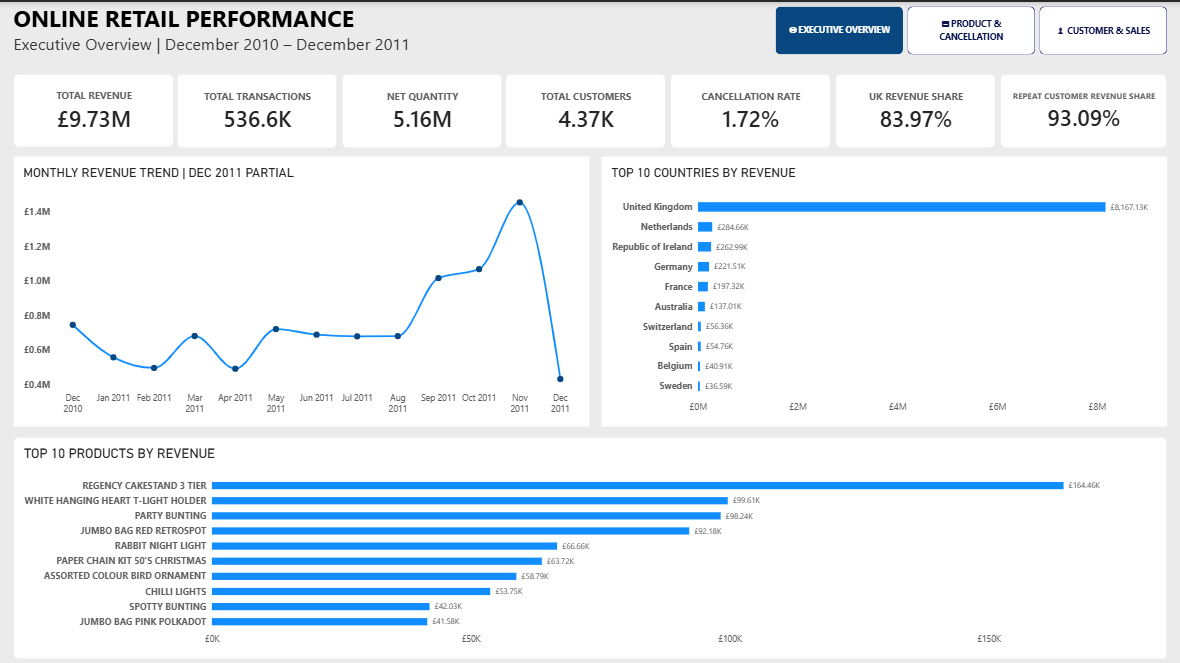

Layout of this report page (visuals, bound fields, positions):
{"tool":"powerbi","page":{"name":"EXECUTIVE OVERVIEW","canvas":[1920,1080],"ordinal":0},"visuals":[{"type":"cardVisual","fields":{"Data":["Online_retail_cleaned_v2.TOTAL REVENUE"]},"box":[22,117.1,260,119.6],"z":0},{"type":"cardVisual","fields":{"Data":["Online_retail_cleaned_v2.CANCELLATION RATE"]},"box":[1090.6,117.1,260,120],"z":1000},{"type":"cardVisual","fields":{"Data":["Online_retail_cleaned_v2.TOTAL TRANSACTIONS"]},"box":[289.1,117.1,260,120],"z":2000},{"type":"cardVisual","fields":{"Data":["Online_retail_cleaned_v2.TOTAL CUSTOMERS"]},"box":[823.4,117.1,260,120],"z":3000},{"type":"cardVisual","fields":{"Data":["Online_retail_cleaned_v2.NET QUANTITY"]},"box":[556.3,117.1,260,120],"z":4000},{"type":"textbox","box":[22,0,1134.5,100],"z":5000},{"type":"lineChart","title":"MONTHLY REVENUE TREND | DEC 2011 PARTIAL","fields":{"Category":["Online_retail_cleaned_v2.Month Year"],"Y":["Online_retail_cleaned_v2.TOTAL REVENUE"]},"box":[22,251.3,936.9,439.2],"z":6000},{"type":"clusteredBarChart","title":"TOP 10 COUNTRIES BY REVENUE","fields":{"Category":["Online_retail_cleaned_v2.Country Display"],"Y":["Online_retail_cleaned_v2.TOTAL REVENUE"]},"box":[978.4,251.3,919.8,439.2],"z":7000},{"type":"clusteredBarChart","title":"TOP 10 PRODUCTS BY REVENUE","fields":{"Category":["Online_retail_cleaned_v2.description"],"Y":["Online_retail_cleaned_v2.TOTAL REVENUE"]},"box":[22,707.5,1876.2,361.1],"z":8000},{"type":"cardVisual","fields":{"Data":["Online_retail_cleaned_v2.UK REVENUE SHARE"]},"box":[1357.8,117.1,260,120],"z":9000},{"type":"cardVisual","fields":{"Data":["Online_retail_cleaned_v2.REPEAT CUSTOMER REVENUE SHARE"]},"box":[1627.4,117.1,270,120],"z":10000},{"type":"actionButton","box":[1262.2,7.3,207.4,78.1],"z":10001},{"type":"actionButton","box":[1690.7,8,207.4,78.1],"z":10002},{"type":"actionButton","box":[1476.9,7.3,207.4,78.1],"z":10003}]}

Visuals, with their boxes in screenshot pixels (x1, y1, x2, y2), scaled from the page's 1920x1080 canvas onto the 1180x663 screenshot:
cardVisual - Online_retail_cleaned_v2.TOTAL REVENUE: box(14, 72, 173, 145)
cardVisual - Online_retail_cleaned_v2.CANCELLATION RATE: box(670, 72, 830, 146)
cardVisual - Online_retail_cleaned_v2.TOTAL TRANSACTIONS: box(178, 72, 337, 146)
cardVisual - Online_retail_cleaned_v2.TOTAL CUSTOMERS: box(506, 72, 666, 146)
cardVisual - Online_retail_cleaned_v2.NET QUANTITY: box(342, 72, 502, 146)
textbox: box(14, 0, 711, 61)
"MONTHLY REVENUE TREND | DEC 2011 PARTIAL" lineChart: box(14, 154, 589, 424)
"TOP 10 COUNTRIES BY REVENUE" clusteredBarChart: box(601, 154, 1167, 424)
"TOP 10 PRODUCTS BY REVENUE" clusteredBarChart: box(14, 434, 1167, 656)
cardVisual - Online_retail_cleaned_v2.UK REVENUE SHARE: box(834, 72, 994, 146)
cardVisual - Online_retail_cleaned_v2.REPEAT CUSTOMER REVENUE SHARE: box(1000, 72, 1166, 146)
actionButton: box(776, 4, 903, 52)
actionButton: box(1039, 5, 1167, 53)
actionButton: box(908, 4, 1035, 52)
